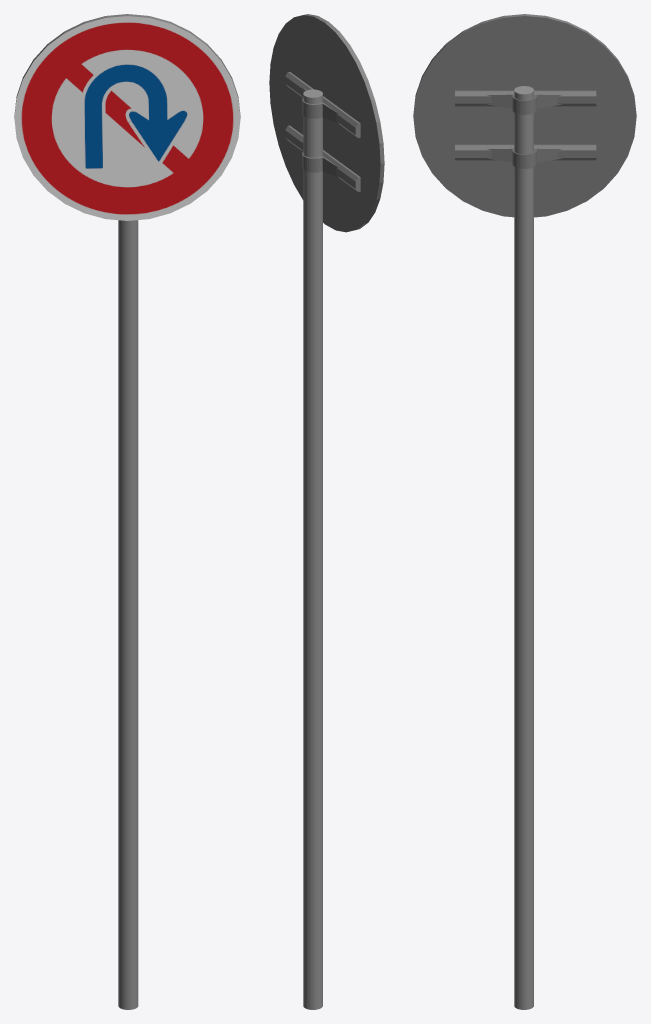
3 renders of one model, left to right at view 1: azimuth 90°, elevation 25°; view 2: azimuth 210°, elevation 25°; view 3: azimuth 270°, elevation 25°, orthographic.
Visible parts, largest first — view 1: 026, Prop; view 2: Prop, 026; view 3: 026, Prop.
Boxes of the visible parts, bbox=[...] form: 026: bbox=[14, 14, 240, 220]; Prop: bbox=[118, 220, 138, 1009]; Prop: bbox=[285, 72, 360, 1009]; 026: bbox=[269, 14, 384, 232]; 026: bbox=[413, 14, 636, 217]; Prop: bbox=[455, 86, 596, 1009].
Size of the model in its own units: 6.76 by 253 by 52.01.
